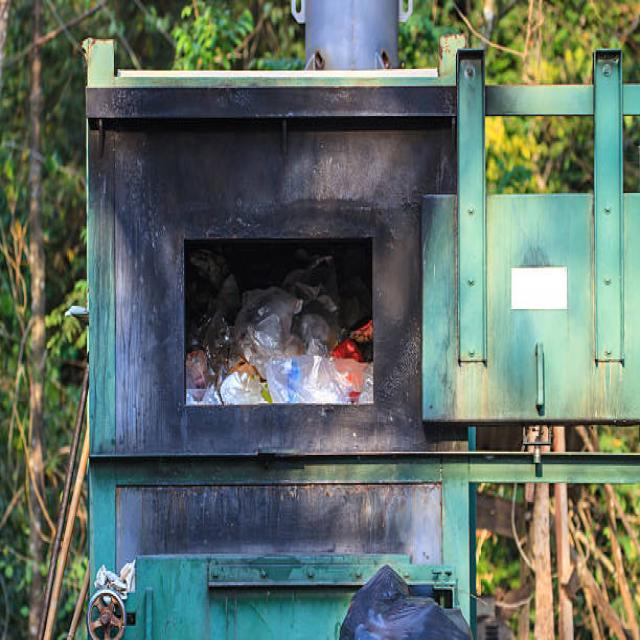plastic: (194, 262, 358, 392)
